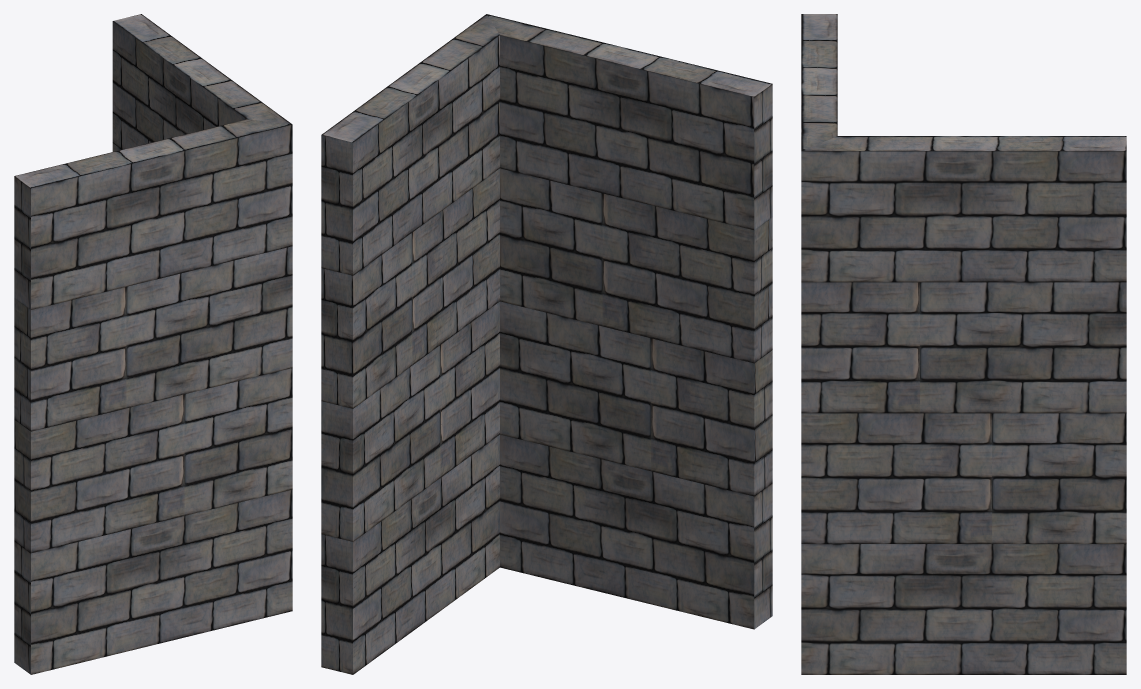
File: wall_corner_01.glb
3 views of the same model, side by side, from view 1: azimuth 30°, elevation 25°; view 2: azimuth 150°, elevation 25°; view 3: azimuth 270°, elevation 25° (orthographic). The views are drawn at different scales.
Visible parts, largest first — view 1: wall_corner_01; view 2: wall_corner_01; view 3: wall_corner_01.
Part boxes in pixels (bbox=[...]): wall_corner_01: bbox=[14, 14, 292, 674]; wall_corner_01: bbox=[321, 14, 772, 674]; wall_corner_01: bbox=[801, 14, 1126, 674].
Bounding box in the file's own units: 9 × 16 × 9.
Materials: 1 (1 with a texture image).
